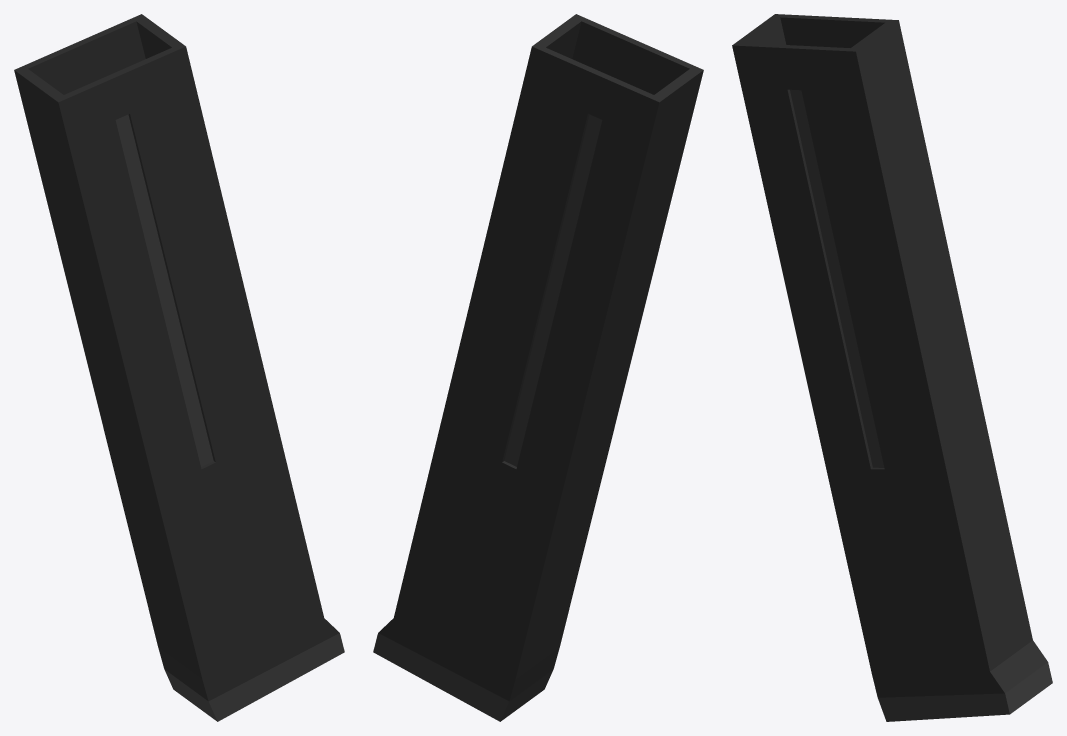
File: SMG6_05_2.fbx
The picture shows the model from 3 angles, left to right: view 1: azimuth 30°, elevation 25°; view 2: azimuth 150°, elevation 25°; view 3: azimuth 330°, elevation 25°; orthographic projection. The views are drawn at different scales.
Parts seen in each view (by area): view 1: SMG6_05_2; view 2: SMG6_05_2; view 3: SMG6_05_2.
Boxes of the visible parts, x1,y1,x2,y2 form: SMG6_05_2: (14, 14, 344, 721); SMG6_05_2: (373, 14, 703, 721); SMG6_05_2: (732, 14, 1052, 721).
Bounding box in the file's own units: 0.0924 × 0.2105 × 0.0248.
